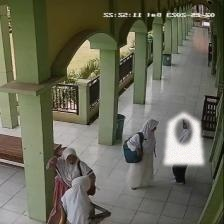Mukena: (163, 111, 203, 165)
